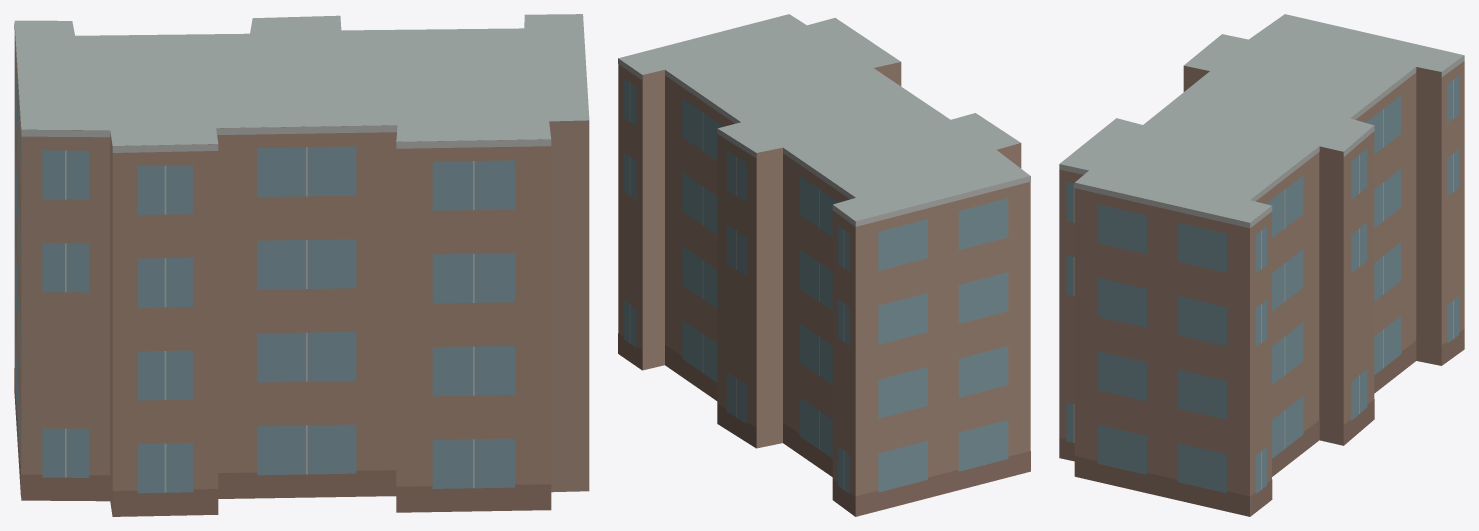
File: survey-upis-32673468.glb
3 renders of one model, left to right at view 1: azimuth 30°, elevation 25°; view 2: azimuth 150°, elevation 25°; view 3: azimuth 270°, elevation 25°, orthographic. The views are drawn at different scales.
Parts seen in each view (by area): view 1: survey-upis-32673468.tmp; view 2: survey-upis-32673468.tmp; view 3: survey-upis-32673468.tmp.
Boxes of the visible parts, box(x1,y1,x2,y2) form: survey-upis-32673468.tmp: box(14, 14, 589, 516); survey-upis-32673468.tmp: box(618, 14, 1030, 516); survey-upis-32673468.tmp: box(1059, 14, 1464, 516).
Bounding box in the file's own units: 19.81 × 13 × 16.25.
